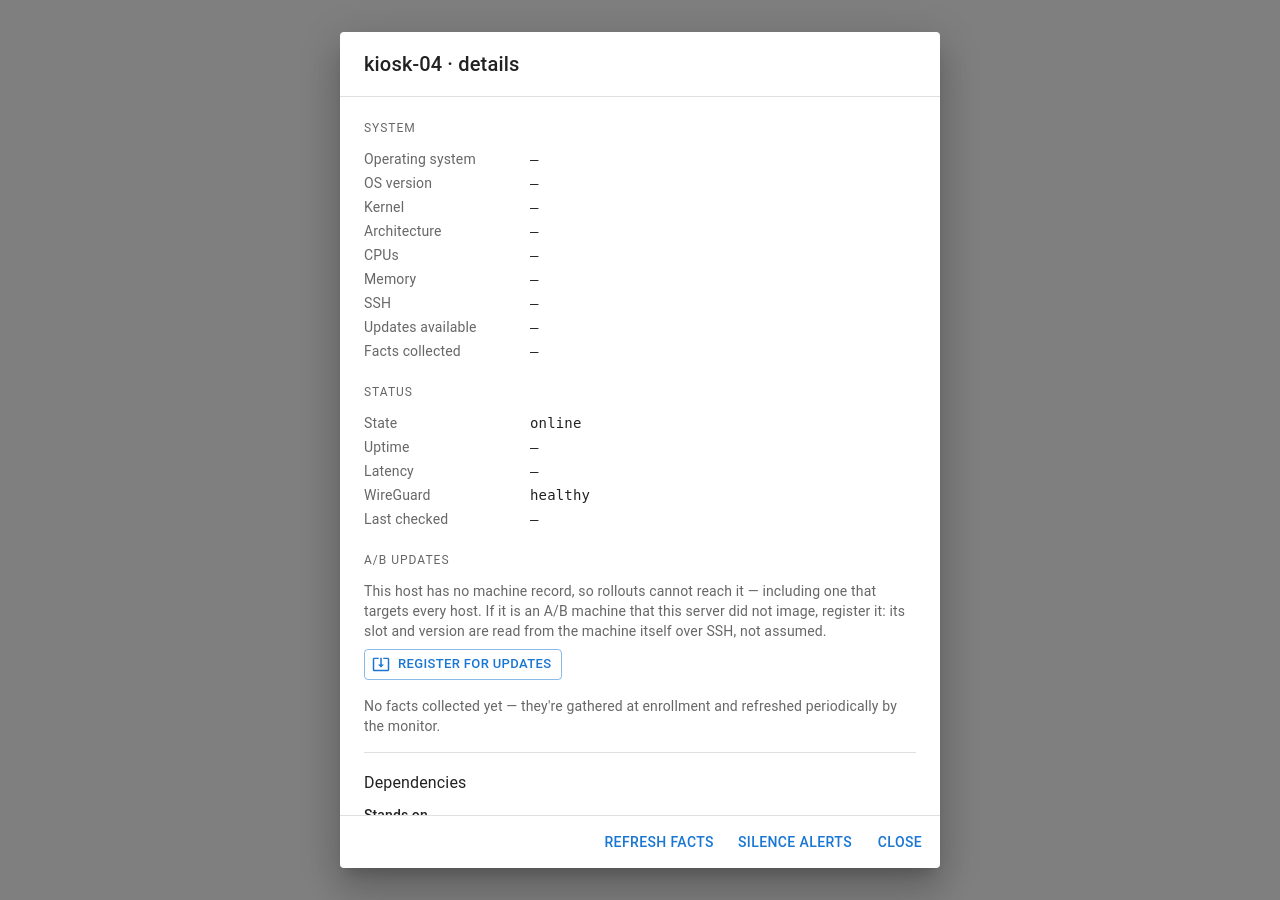
Test: registering an enrolled host for A/B updates › surfaces the server's refusal instead of failing silently
What coordinates should you click on to do the following:
click the button "Register for updates"
I would click on:
 (463, 664)
Its box is [364,649,562,680].
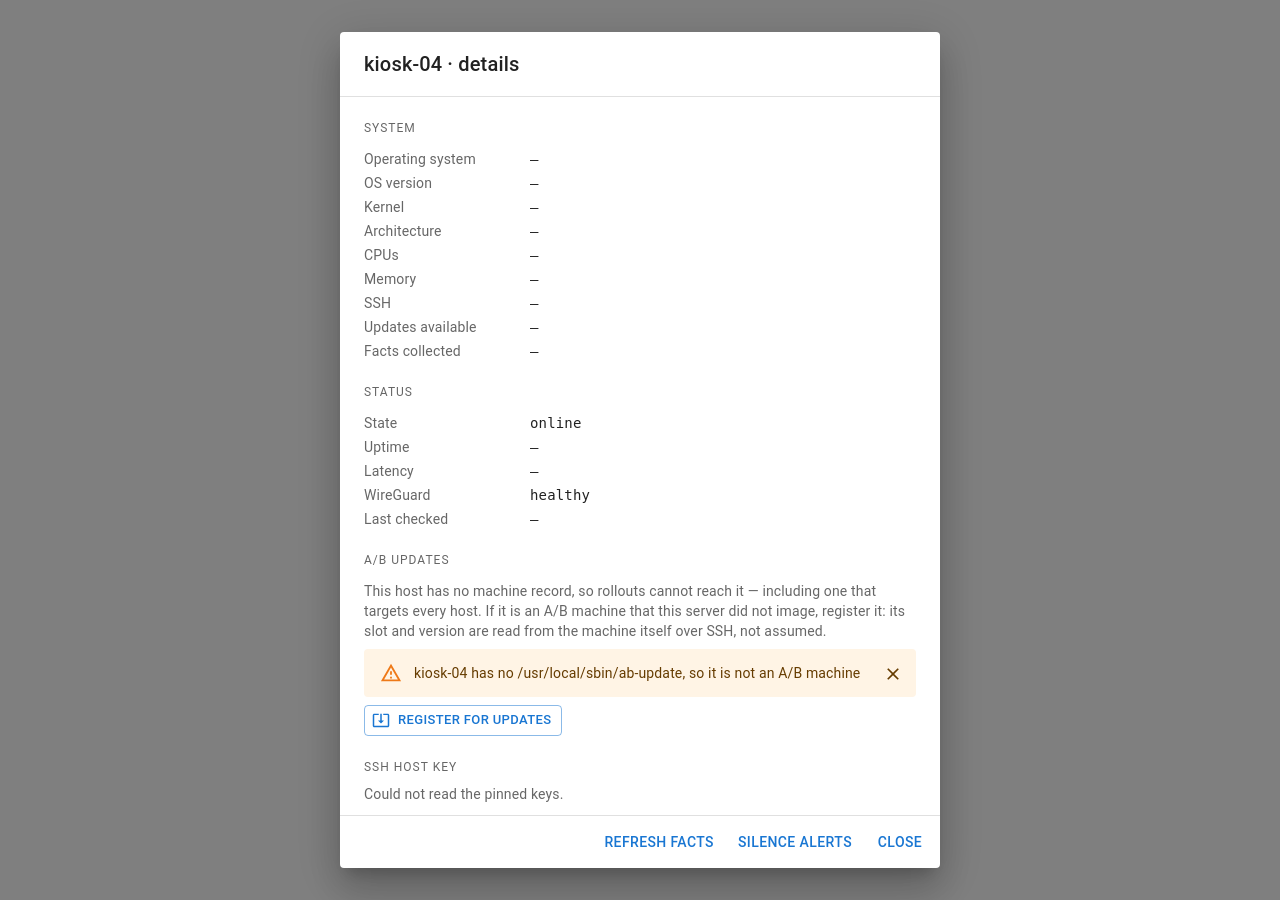
Check: the text "not an A/B machine" is shown, box [414,665,860,681]
